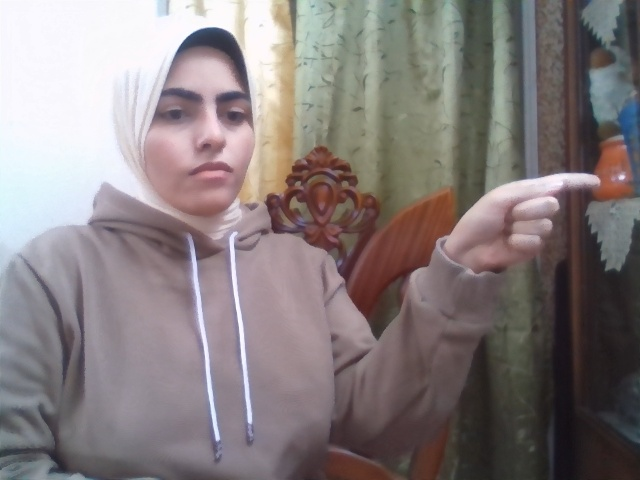G: (449, 173, 600, 269)
